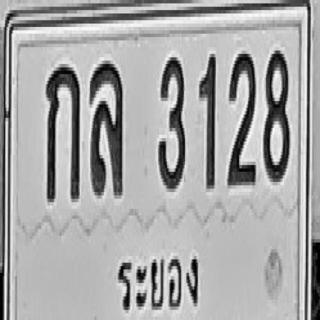A01: (45, 62, 80, 200)
A36: (89, 61, 123, 195)
N01: (198, 50, 216, 188)
N02: (227, 51, 256, 185)
N03: (158, 52, 185, 190)
N08: (263, 47, 290, 182)
P53: (113, 242, 203, 320)
